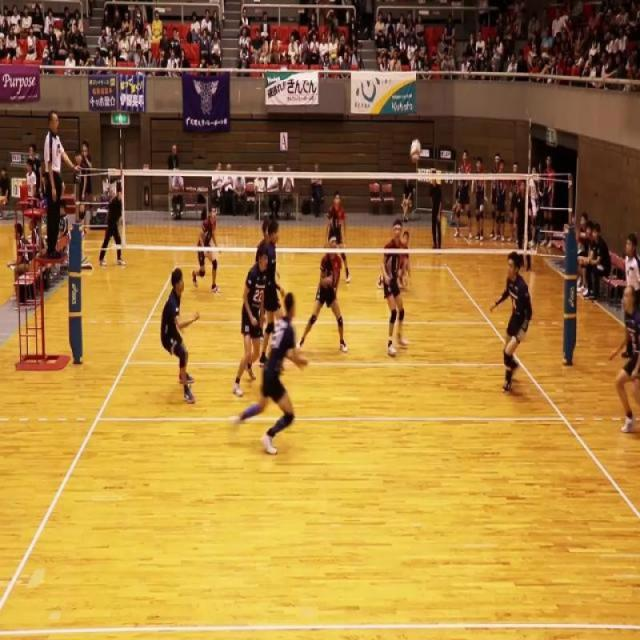volleyball: (410, 136, 422, 166)
